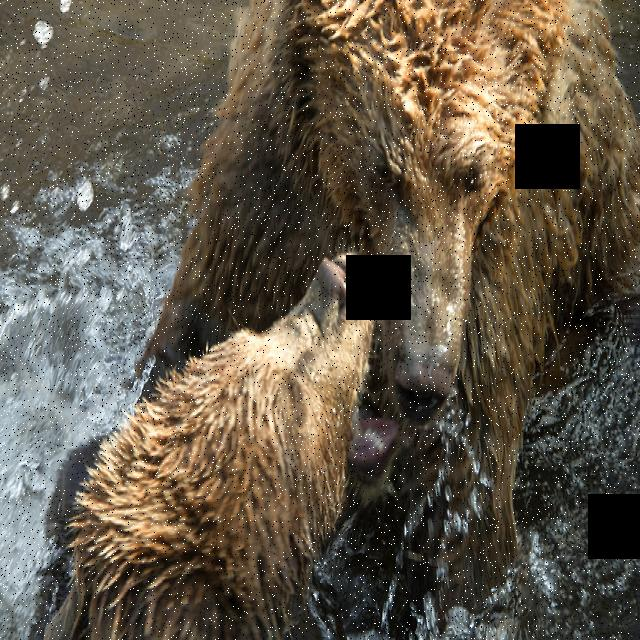Bear: (179, 0, 640, 552), (60, 268, 376, 640)
